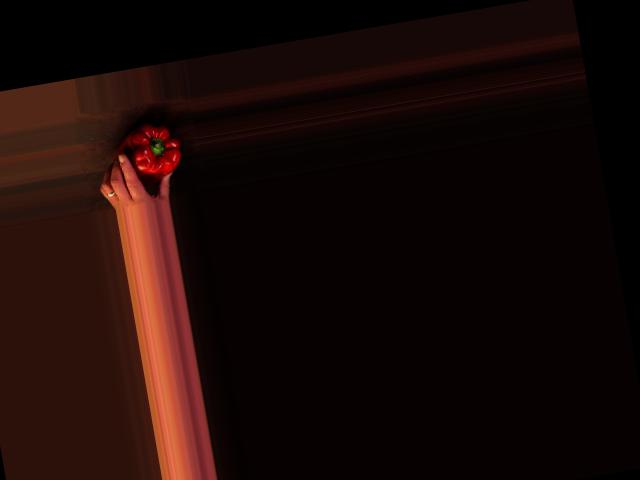bell_pepper: (115, 117, 187, 186)
